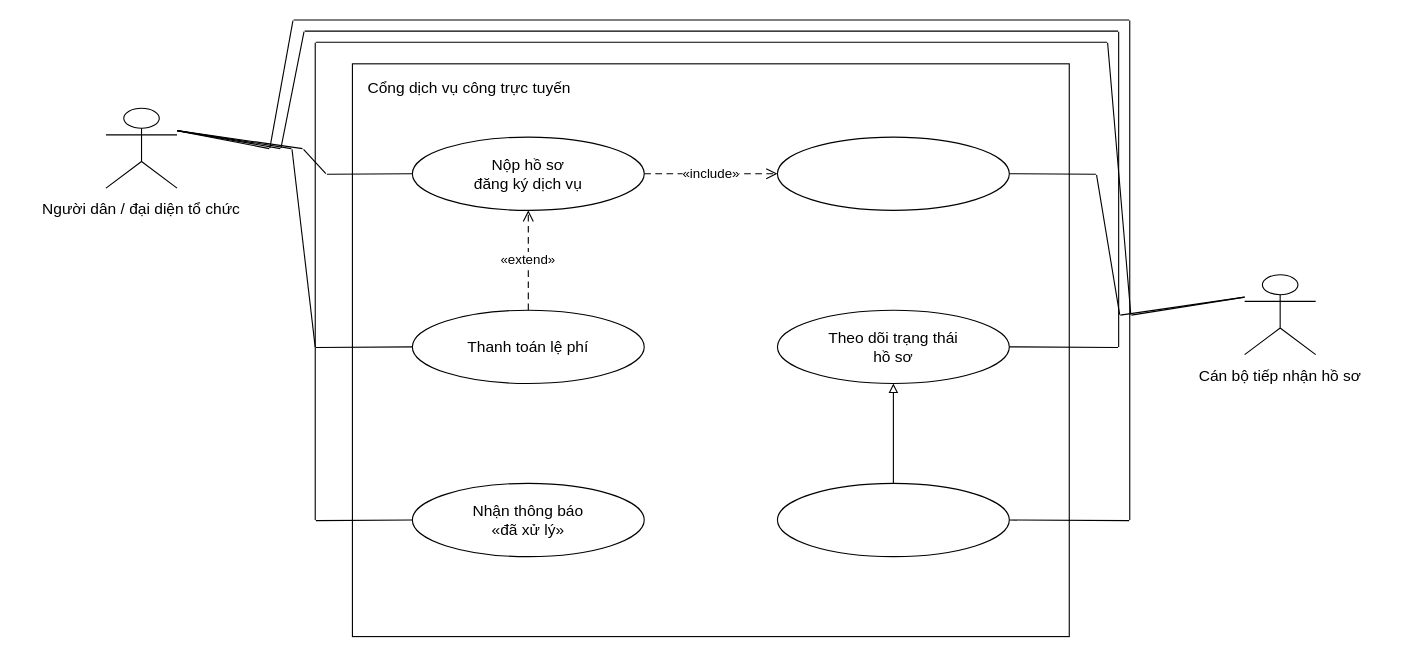
Some shapes in this 1421 by 656 pixel diagram are drawn without their labels. Each missing label, with the centre of its shape:
"Kiểm tra thông tin & tài liệu đính kèm" belongs at (x=892, y=173).
"Yêu cầu bổ sung hoặc khiếu nại" belongs at (x=892, y=519).
